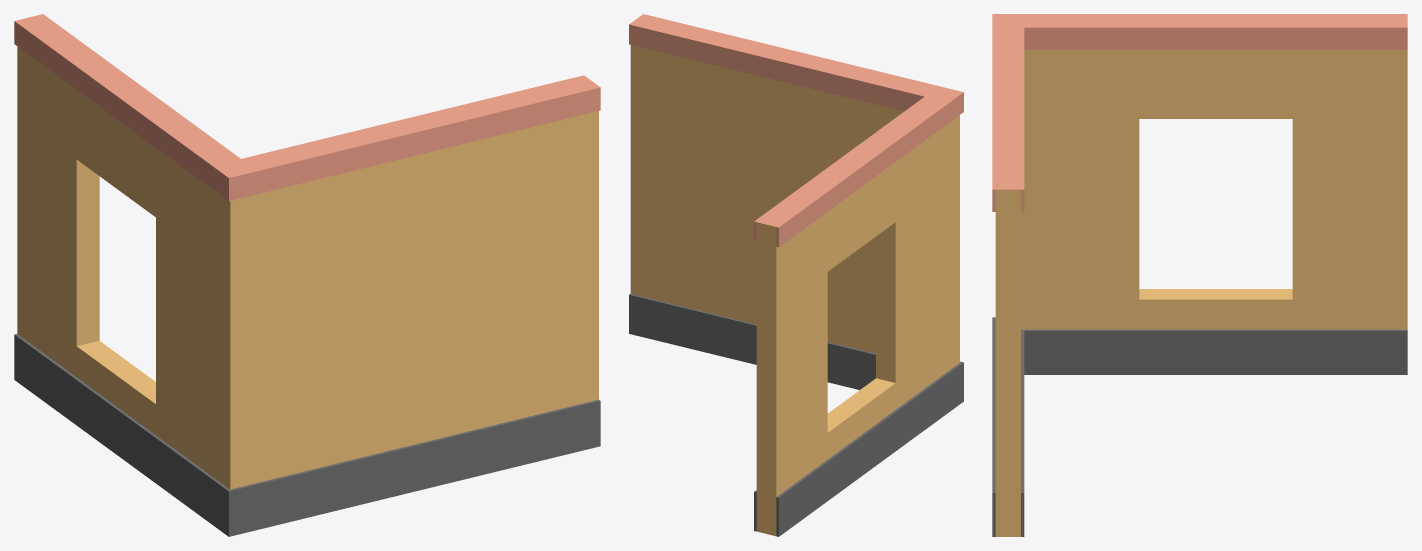
Rendered from Wall01-04.fbx.
3 renders of one model, left to right at view 1: azimuth 30°, elevation 25°; view 2: azimuth 150°, elevation 25°; view 3: azimuth 270°, elevation 25°, orthographic. The views are drawn at different scales.
Parts seen in each view (by area): view 1: Wall01-04; view 2: Wall01-04; view 3: Wall01-04.
Part boxes in pixels (box(x1,y1,x2,y2)): Wall01-04: box(14, 14, 600, 536); Wall01-04: box(629, 14, 963, 536); Wall01-04: box(992, 14, 1407, 536).
Bounding box in the file's own units: 3.25 × 3.25 × 3.
